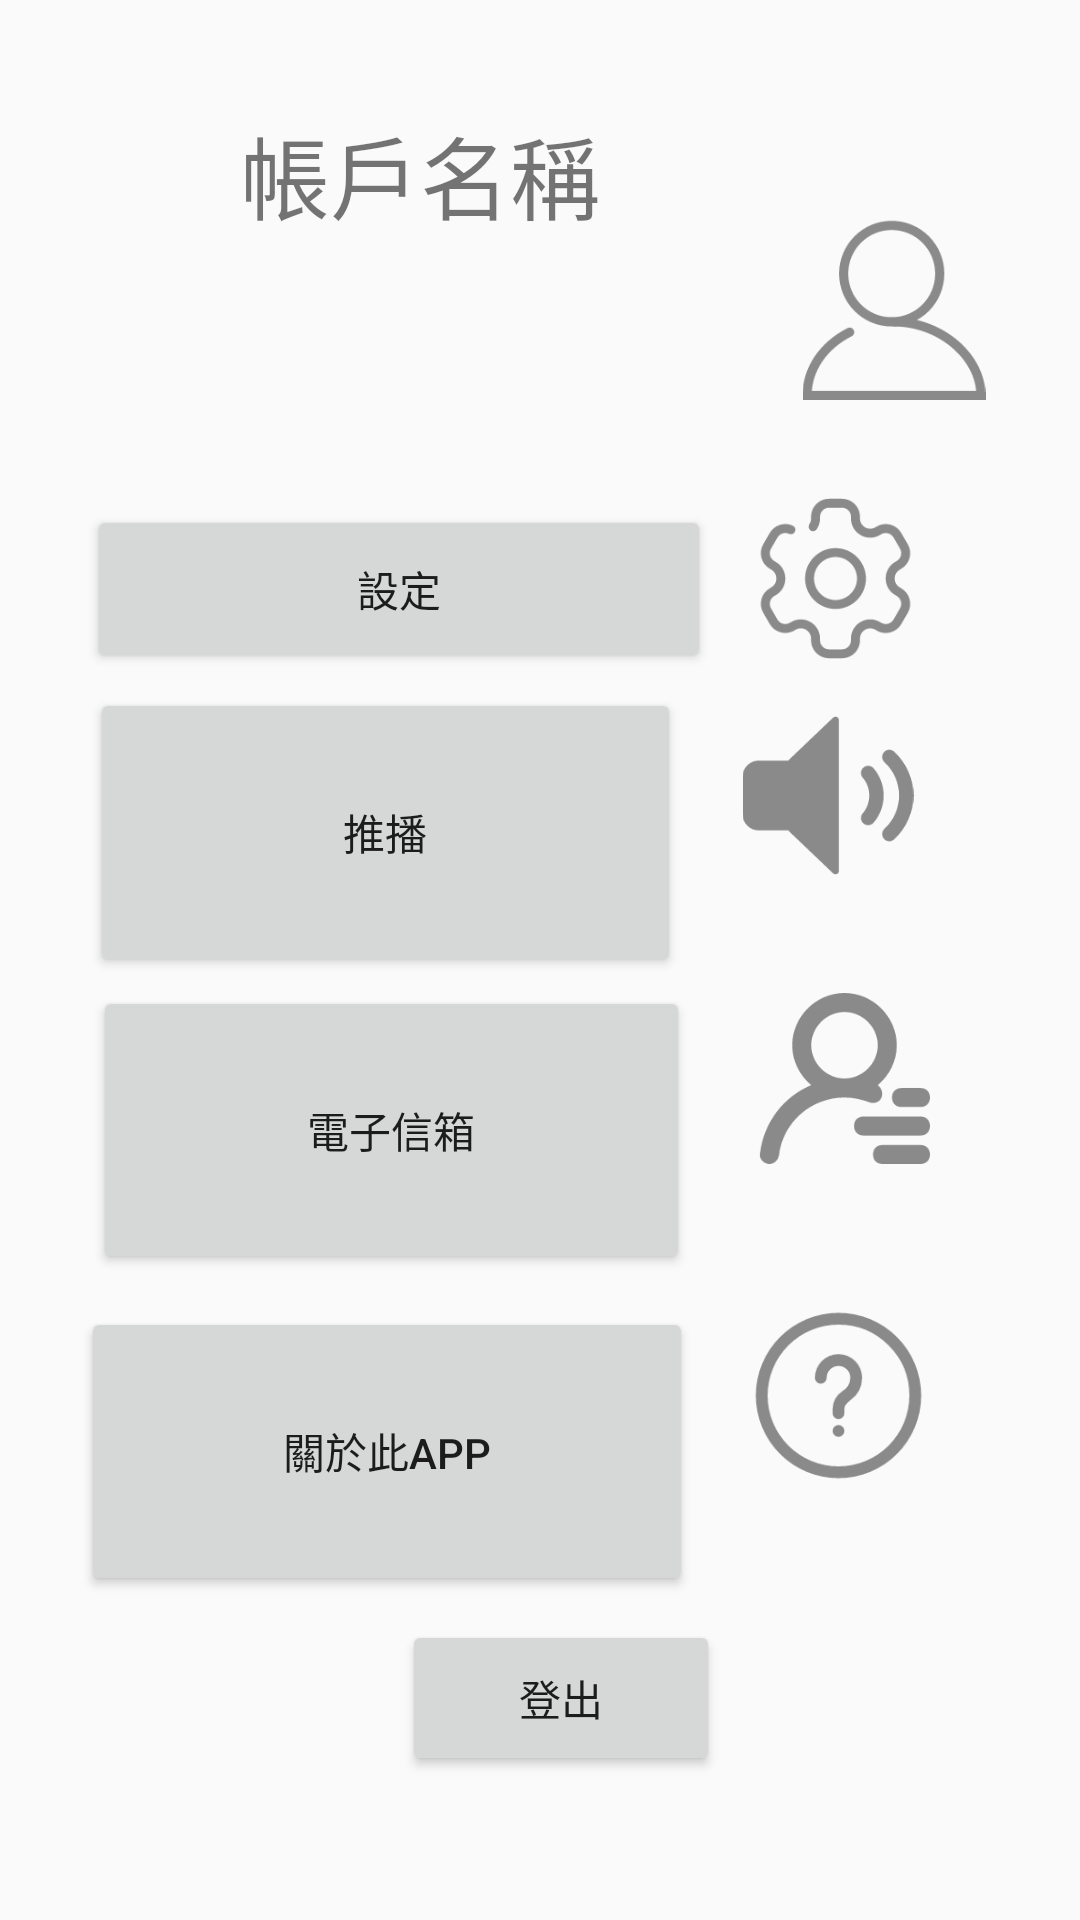

Where icons sit on this 1080*1920 app screen, as (x1, y1, x2, y2):
個人資訊圖標: (760, 993, 930, 1164)
會員頭像: (803, 220, 986, 400)
關於我們圖標: (755, 1312, 922, 1479)
